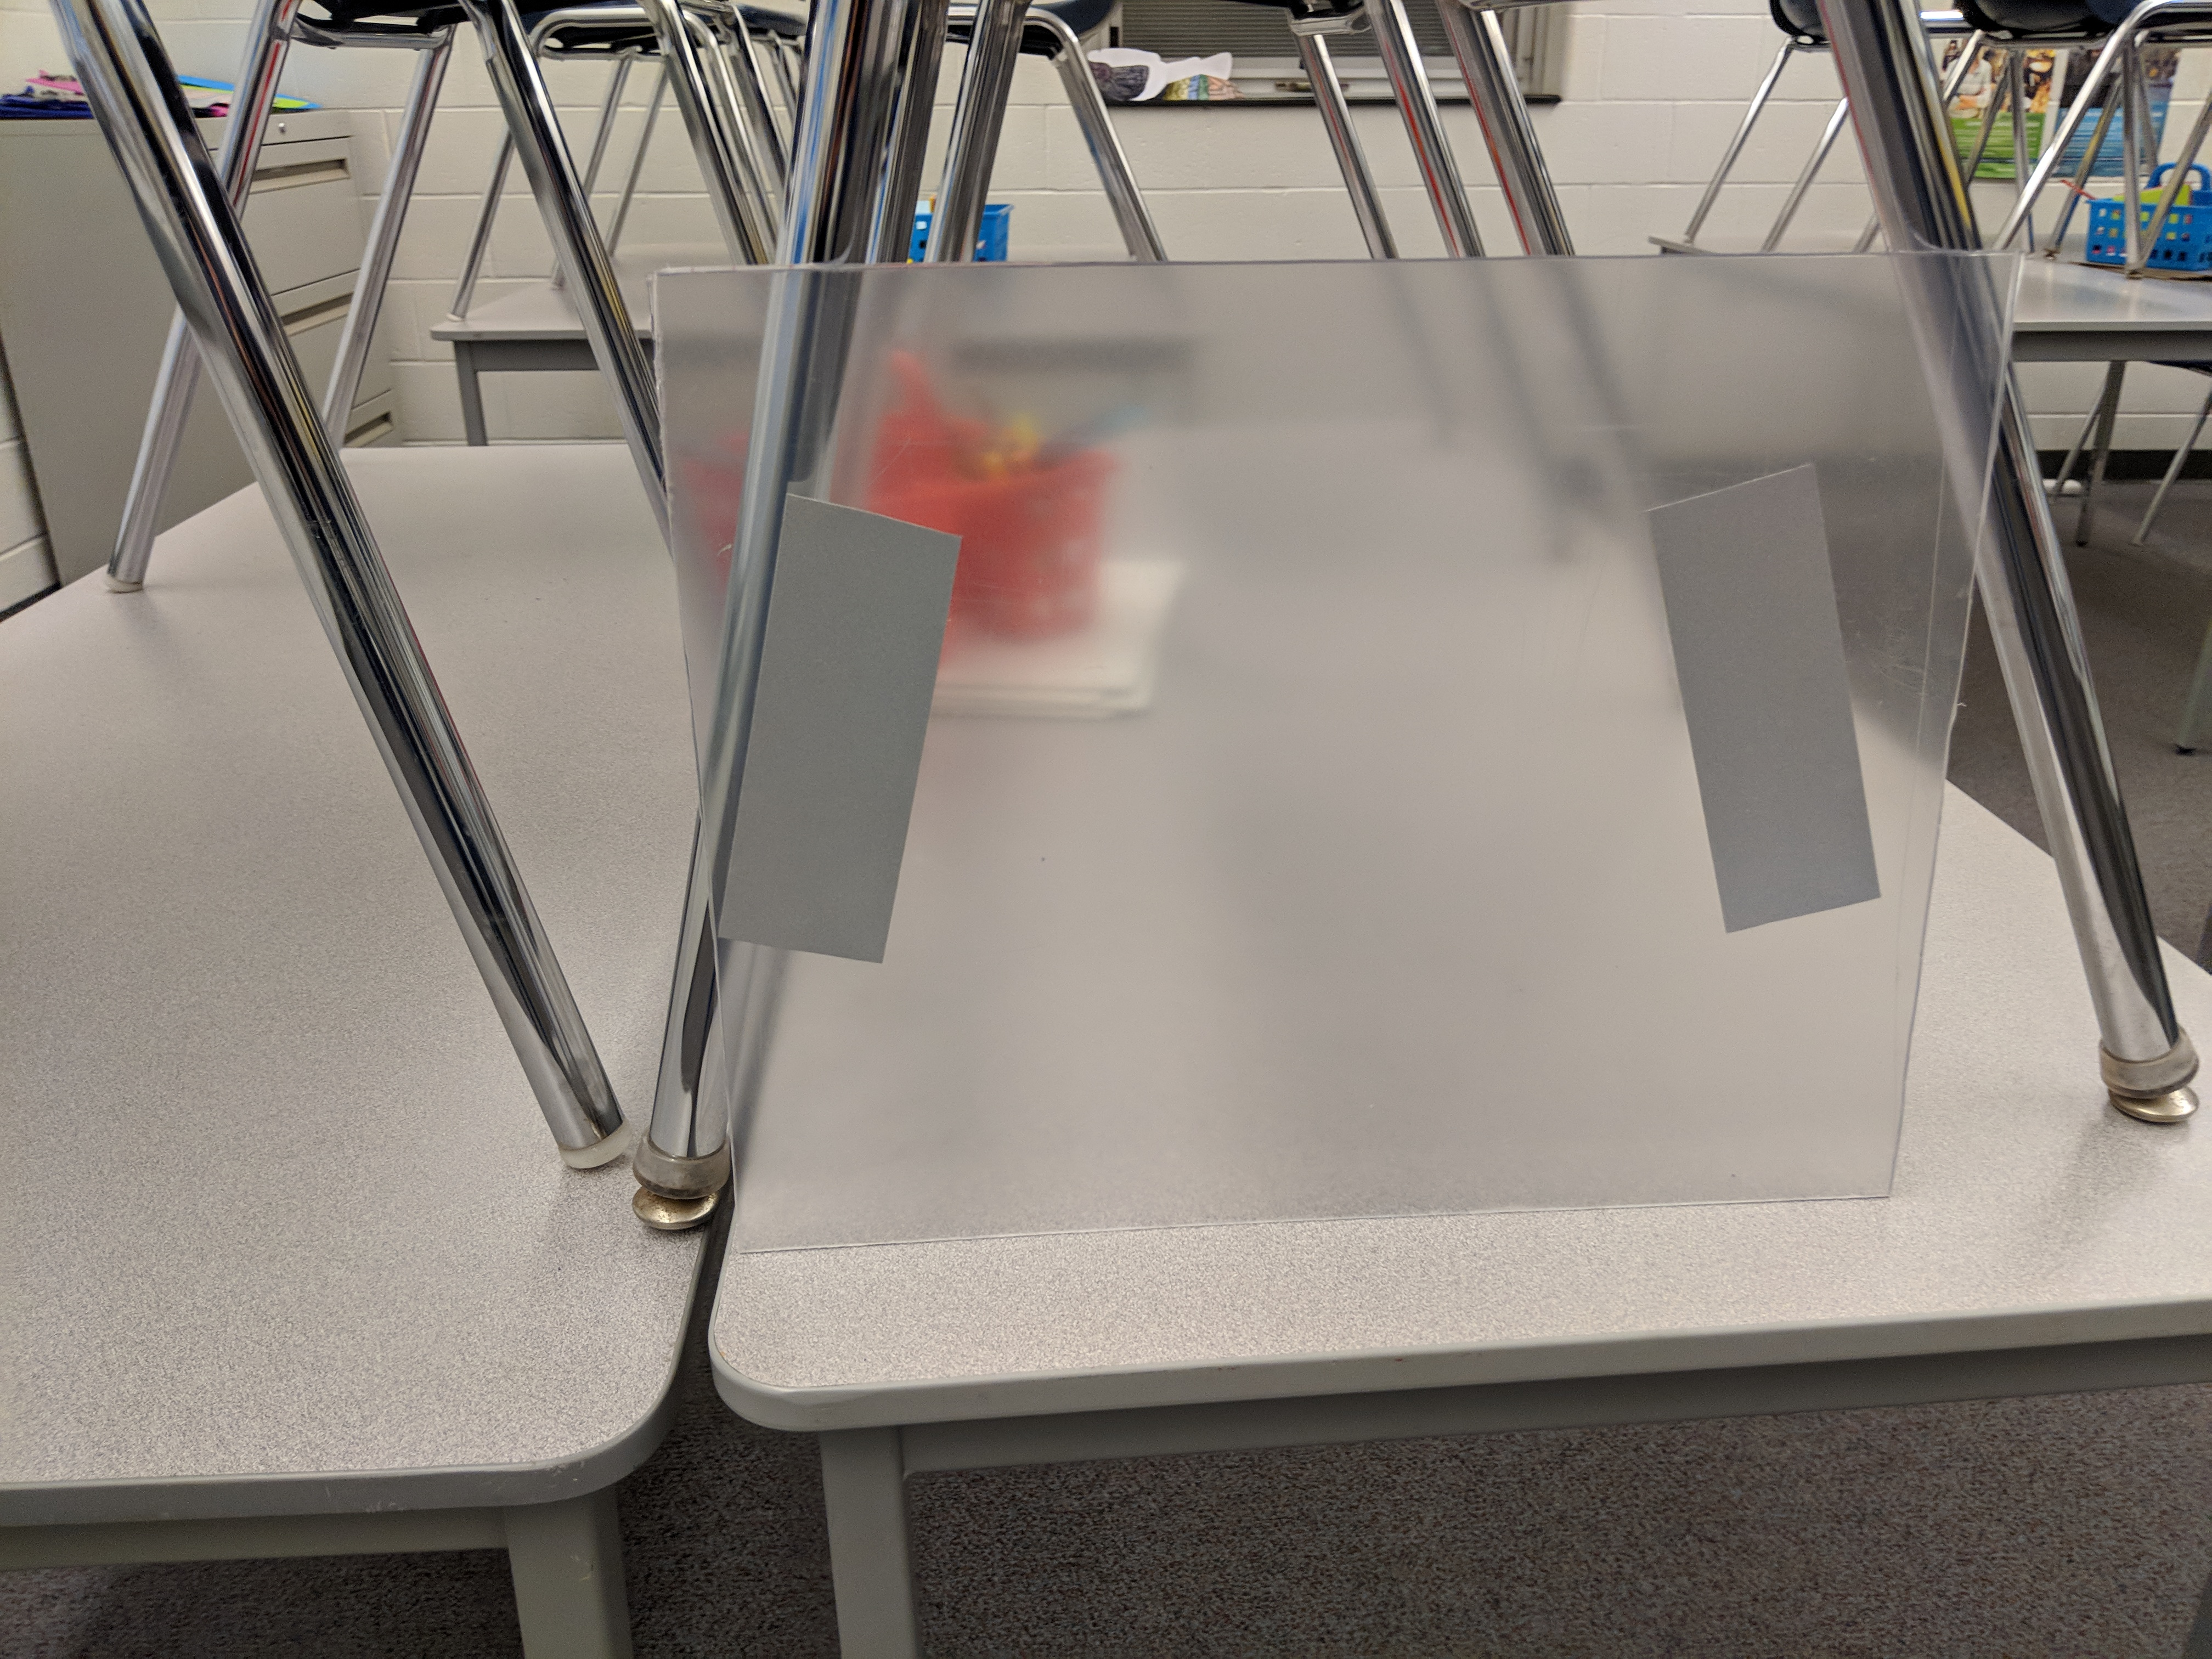vision_target: (705, 450, 1905, 967)
